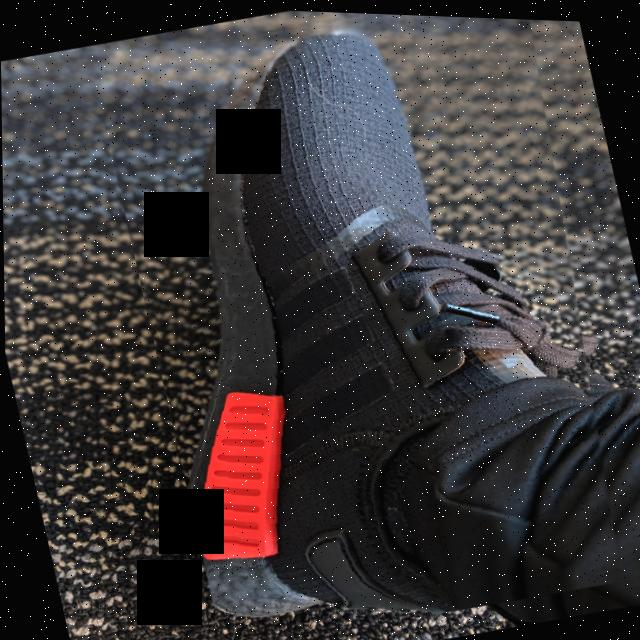shoe: (89, 3, 640, 640)
